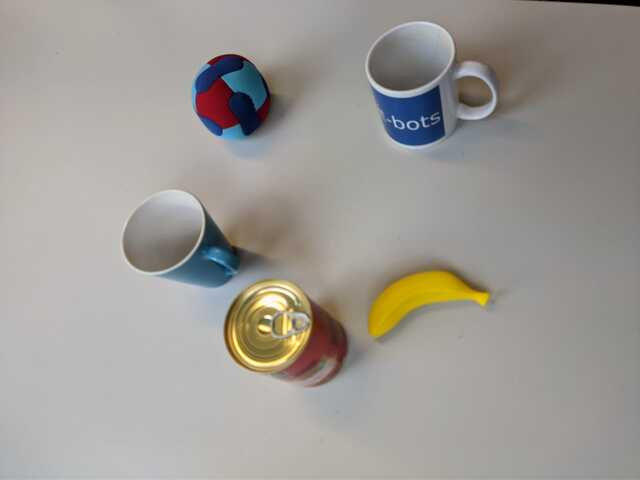005_tomato_soup_can: (225, 278, 351, 389)
011_banana: (365, 269, 491, 341)
025_mug: (362, 21, 504, 151), (119, 189, 240, 291)
057_racquetball: (188, 55, 275, 141)
